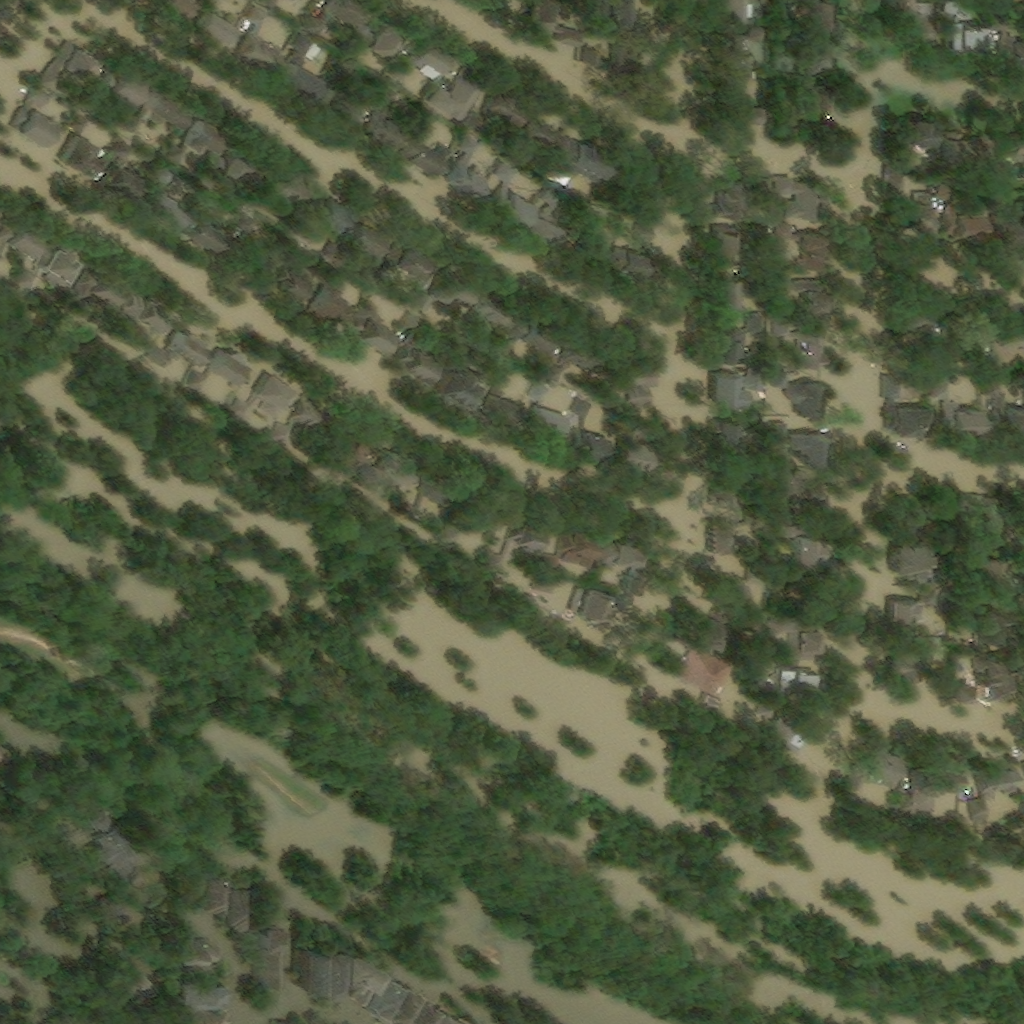destroyed: (441, 491, 505, 544), (395, 472, 458, 524), (755, 698, 808, 756), (971, 759, 1020, 819), (677, 644, 730, 696), (847, 744, 901, 793), (100, 967, 146, 993), (176, 934, 217, 963), (742, 661, 775, 697), (98, 893, 123, 923), (534, 574, 558, 597), (929, 670, 948, 690), (634, 222, 655, 239)
major_damage: (403, 110, 455, 178), (953, 650, 1014, 705), (892, 532, 951, 588), (487, 518, 548, 571), (14, 87, 64, 151), (124, 87, 188, 137), (42, 39, 103, 91), (231, 369, 294, 419), (58, 112, 108, 175), (355, 447, 423, 492), (523, 0, 583, 51), (286, 192, 349, 240), (412, 268, 475, 316), (188, 346, 252, 393), (489, 165, 534, 231), (431, 70, 488, 122), (387, 36, 450, 83), (695, 607, 762, 651), (239, 8, 285, 72), (225, 211, 271, 275), (21, 244, 87, 288), (549, 136, 607, 186), (273, 400, 336, 446), (883, 375, 929, 437), (544, 524, 601, 574), (767, 614, 825, 663), (277, 33, 322, 96), (313, 265, 358, 328), (708, 507, 767, 555), (432, 348, 485, 401), (475, 362, 520, 424), (933, 311, 984, 365), (146, 165, 189, 229), (775, 272, 828, 323), (100, 138, 143, 200), (327, 218, 386, 263), (774, 221, 826, 272), (714, 315, 766, 366), (774, 321, 827, 371), (87, 809, 132, 867), (325, 426, 376, 477), (770, 516, 821, 567), (953, 599, 1003, 651), (771, 370, 823, 420), (600, 537, 644, 596), (718, 76, 768, 127), (699, 565, 765, 603), (496, 317, 557, 358), (450, 136, 489, 200), (709, 364, 767, 407), (147, 327, 207, 368), (717, 26, 768, 74), (185, 191, 226, 250), (348, 18, 405, 60), (566, 397, 605, 458), (351, 304, 399, 353), (773, 422, 824, 468), (889, 589, 939, 634), (609, 354, 653, 405), (772, 467, 826, 508), (342, 946, 379, 1004), (305, 0, 366, 35), (986, 318, 1022, 376), (521, 117, 568, 161), (933, 381, 982, 423), (985, 380, 1022, 434), (614, 418, 652, 469), (544, 344, 593, 383), (102, 65, 146, 108), (527, 381, 566, 429), (265, 166, 309, 208), (776, 176, 818, 220), (965, 494, 1010, 535), (221, 141, 266, 181), (125, 293, 172, 331), (397, 340, 439, 382), (390, 241, 433, 282), (773, 568, 817, 608), (989, 128, 1022, 181), (0, 219, 44, 258), (379, 982, 420, 1023), (250, 912, 273, 985), (321, 85, 365, 123), (198, 8, 238, 47), (914, 761, 962, 793), (988, 195, 1022, 240), (892, 198, 934, 234), (82, 270, 125, 305), (787, 83, 823, 124), (365, 970, 400, 1012), (182, 115, 224, 150), (889, 306, 920, 353), (486, 90, 526, 125), (898, 111, 938, 146), (272, 263, 314, 295), (367, 114, 405, 149), (779, 665, 817, 699), (319, 943, 343, 996), (890, 642, 922, 681), (715, 178, 744, 221), (176, 977, 224, 1002), (714, 273, 744, 313), (571, 583, 606, 617), (468, 290, 504, 323), (198, 865, 222, 914), (295, 936, 317, 989), (597, 0, 633, 30), (713, 224, 737, 269), (222, 882, 245, 927), (948, 209, 985, 236), (402, 995, 437, 1023), (979, 552, 1005, 588), (613, 247, 647, 274), (723, 0, 761, 24), (888, 149, 906, 199), (717, 417, 740, 454), (178, 1006, 228, 1023), (165, 0, 203, 22), (805, 33, 830, 66), (610, 36, 632, 73), (586, 238, 613, 263), (243, 192, 267, 213), (713, 464, 734, 486), (430, 1006, 457, 1023), (110, 864, 130, 885), (584, 47, 603, 67), (477, 323, 492, 337), (261, 0, 283, 9), (0, 0, 16, 7)
minor_damage: (941, 0, 989, 52), (896, 13, 937, 42), (1000, 35, 1022, 64), (808, 0, 826, 29), (989, 14, 1005, 32), (891, 0, 912, 6)
unclassified: (893, 499, 916, 530)
